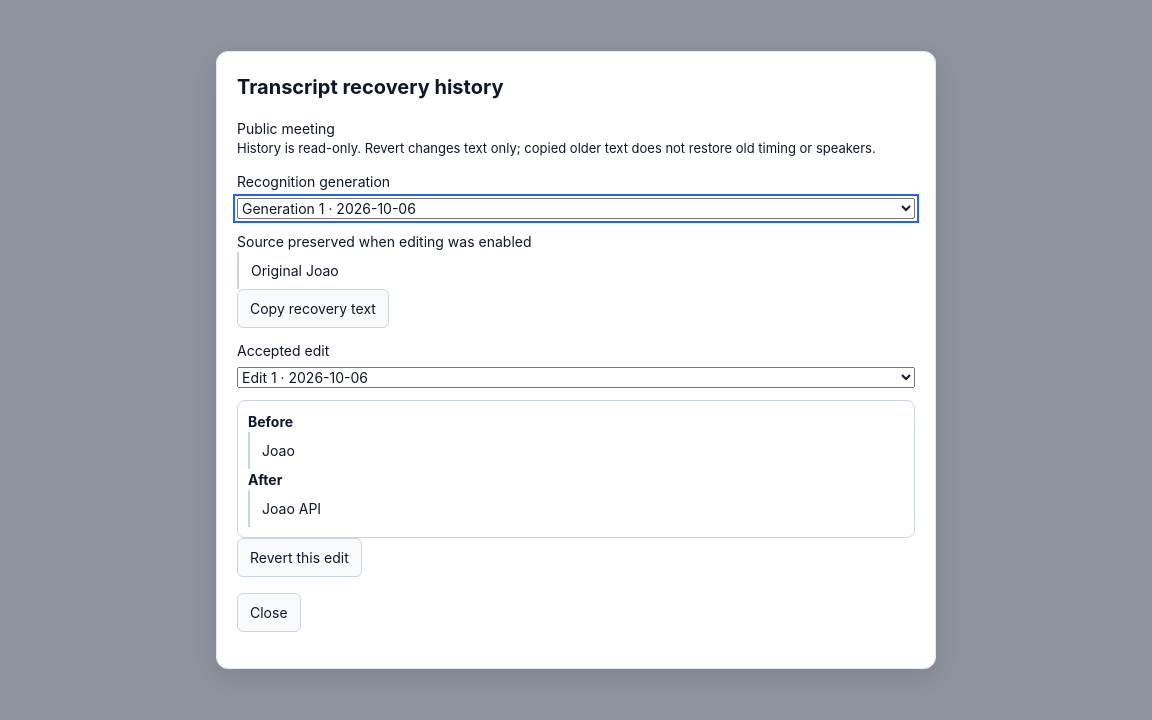
Test: history inverse uses the newest accepted source for its opening meeting
Click the button "Revert this edit" at (299, 557), box [237,538,362,577]
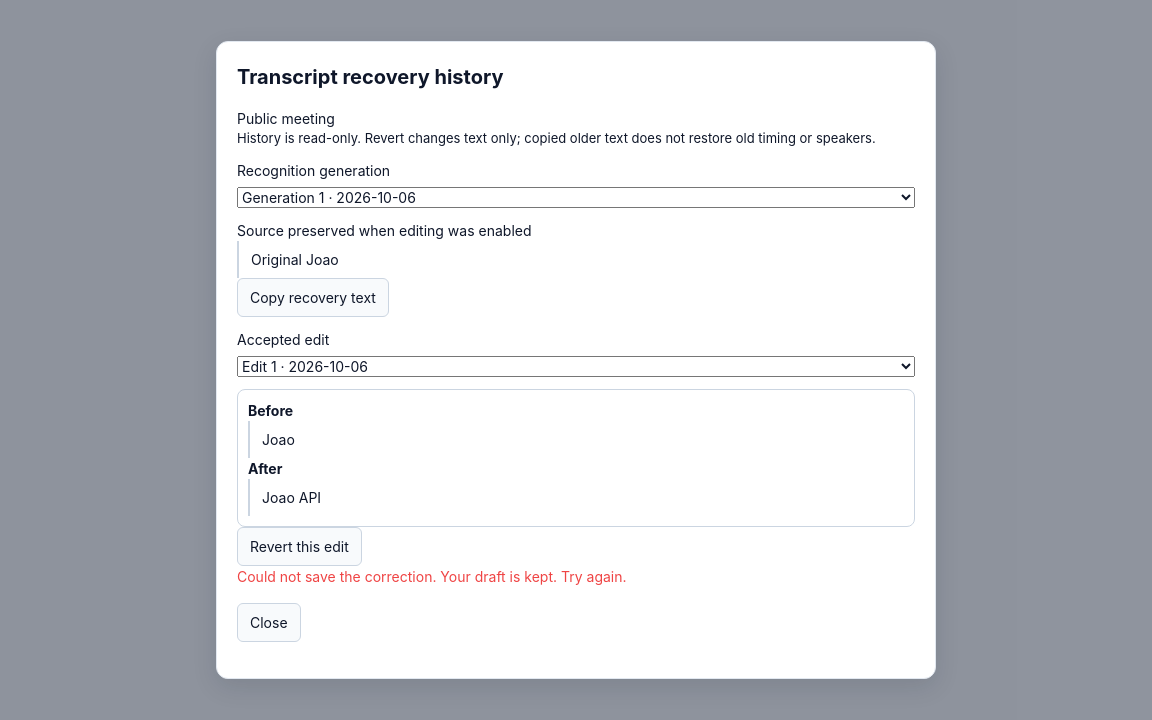
Check: the message "Could not save the correction. Your draft is kept. Try again." is shown, box [237,568,626,585]
